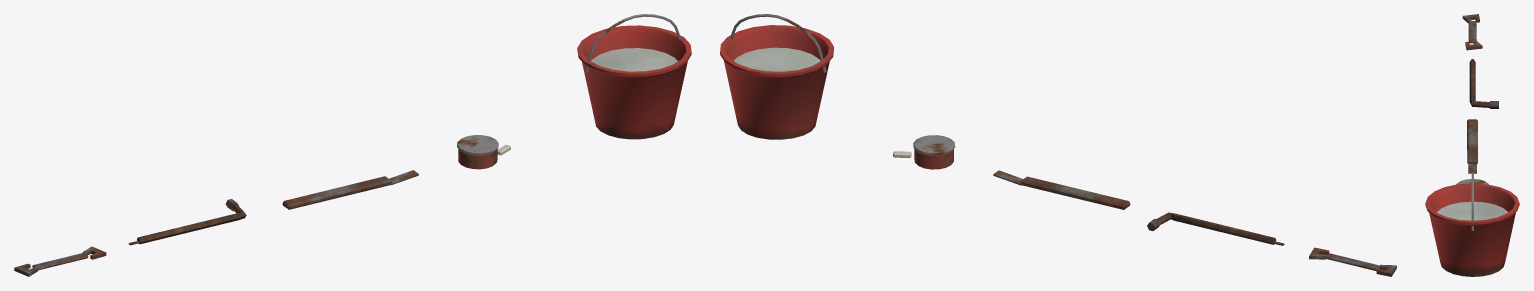
Rendered from ToolsOnGround.fbx.
3 views of the same model, side by side, from view 1: azimuth 30°, elevation 25°; view 2: azimuth 150°, elevation 25°; view 3: azimuth 270°, elevation 25° (orthographic). The views are drawn at different scales.
Parts seen in each view (by area): view 1: BucketWater, TireLever, PatchKitTin, TireIron, Wrench; view 2: BucketWater, PatchKitTin, TireLever, TireIron, Wrench; view 3: BucketWater, TireLever, TireIron, Wrench, PatchKitTin.
Boxes of the visible parts, x1,y1,x2,y2 form: BucketWater: (577,14,691,139); TireLever: (282,170,418,209); PatchKitTin: (457,135,510,169); TireIron: (128,199,246,245); Wrench: (14,246,106,276); BucketWater: (720,14,833,139); PatchKitTin: (893,135,955,169); TireLever: (993,170,1130,209); TireIron: (1147,212,1284,245); Wrench: (1309,247,1396,276); BucketWater: (1425,170,1519,276); TireLever: (1467,119,1477,173); TireIron: (1469,59,1498,108); Wrench: (1462,14,1482,50); PatchKitTin: (1456,179,1488,184).
Bounding box in the file's own units: 357 × 55.53 × 53.32.
1 material, 1 textured.
